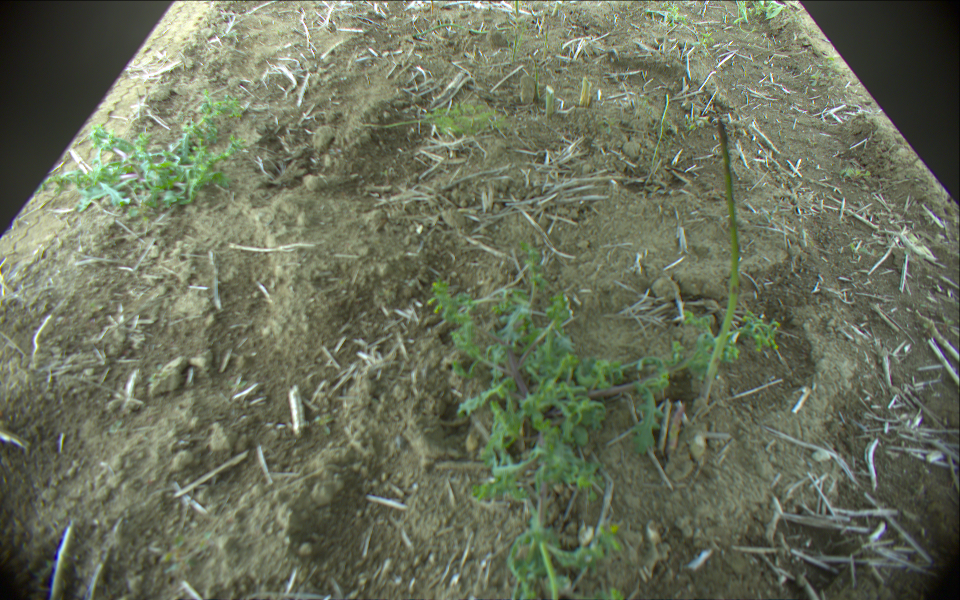aspa: (697, 114, 738, 403), (644, 93, 670, 186), (408, 21, 523, 39), (666, 402, 685, 454), (577, 77, 593, 108), (541, 25, 553, 58), (546, 86, 558, 117), (513, 27, 518, 62), (514, 1, 520, 16)
